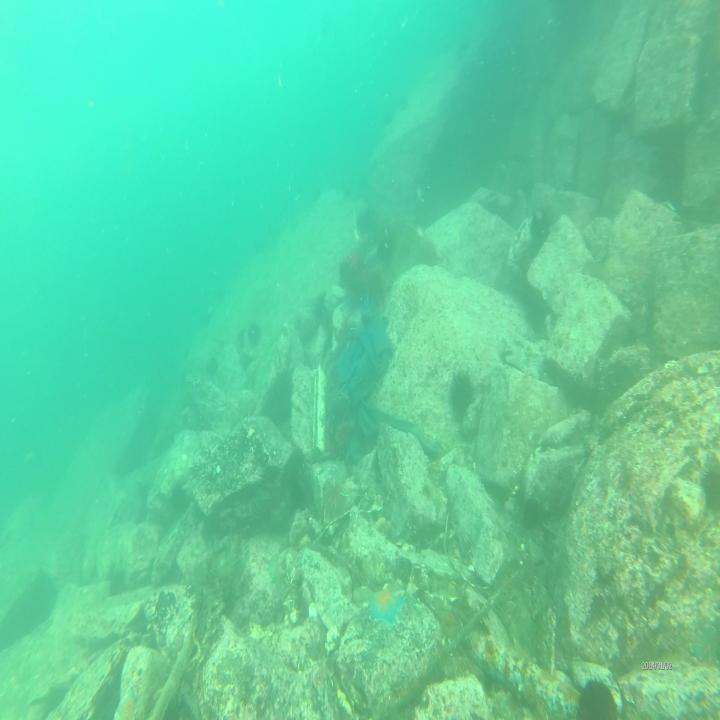echinus: (578, 671, 620, 720), (449, 370, 477, 417), (356, 204, 375, 239), (246, 318, 262, 350)
starfish: (366, 581, 404, 631)
